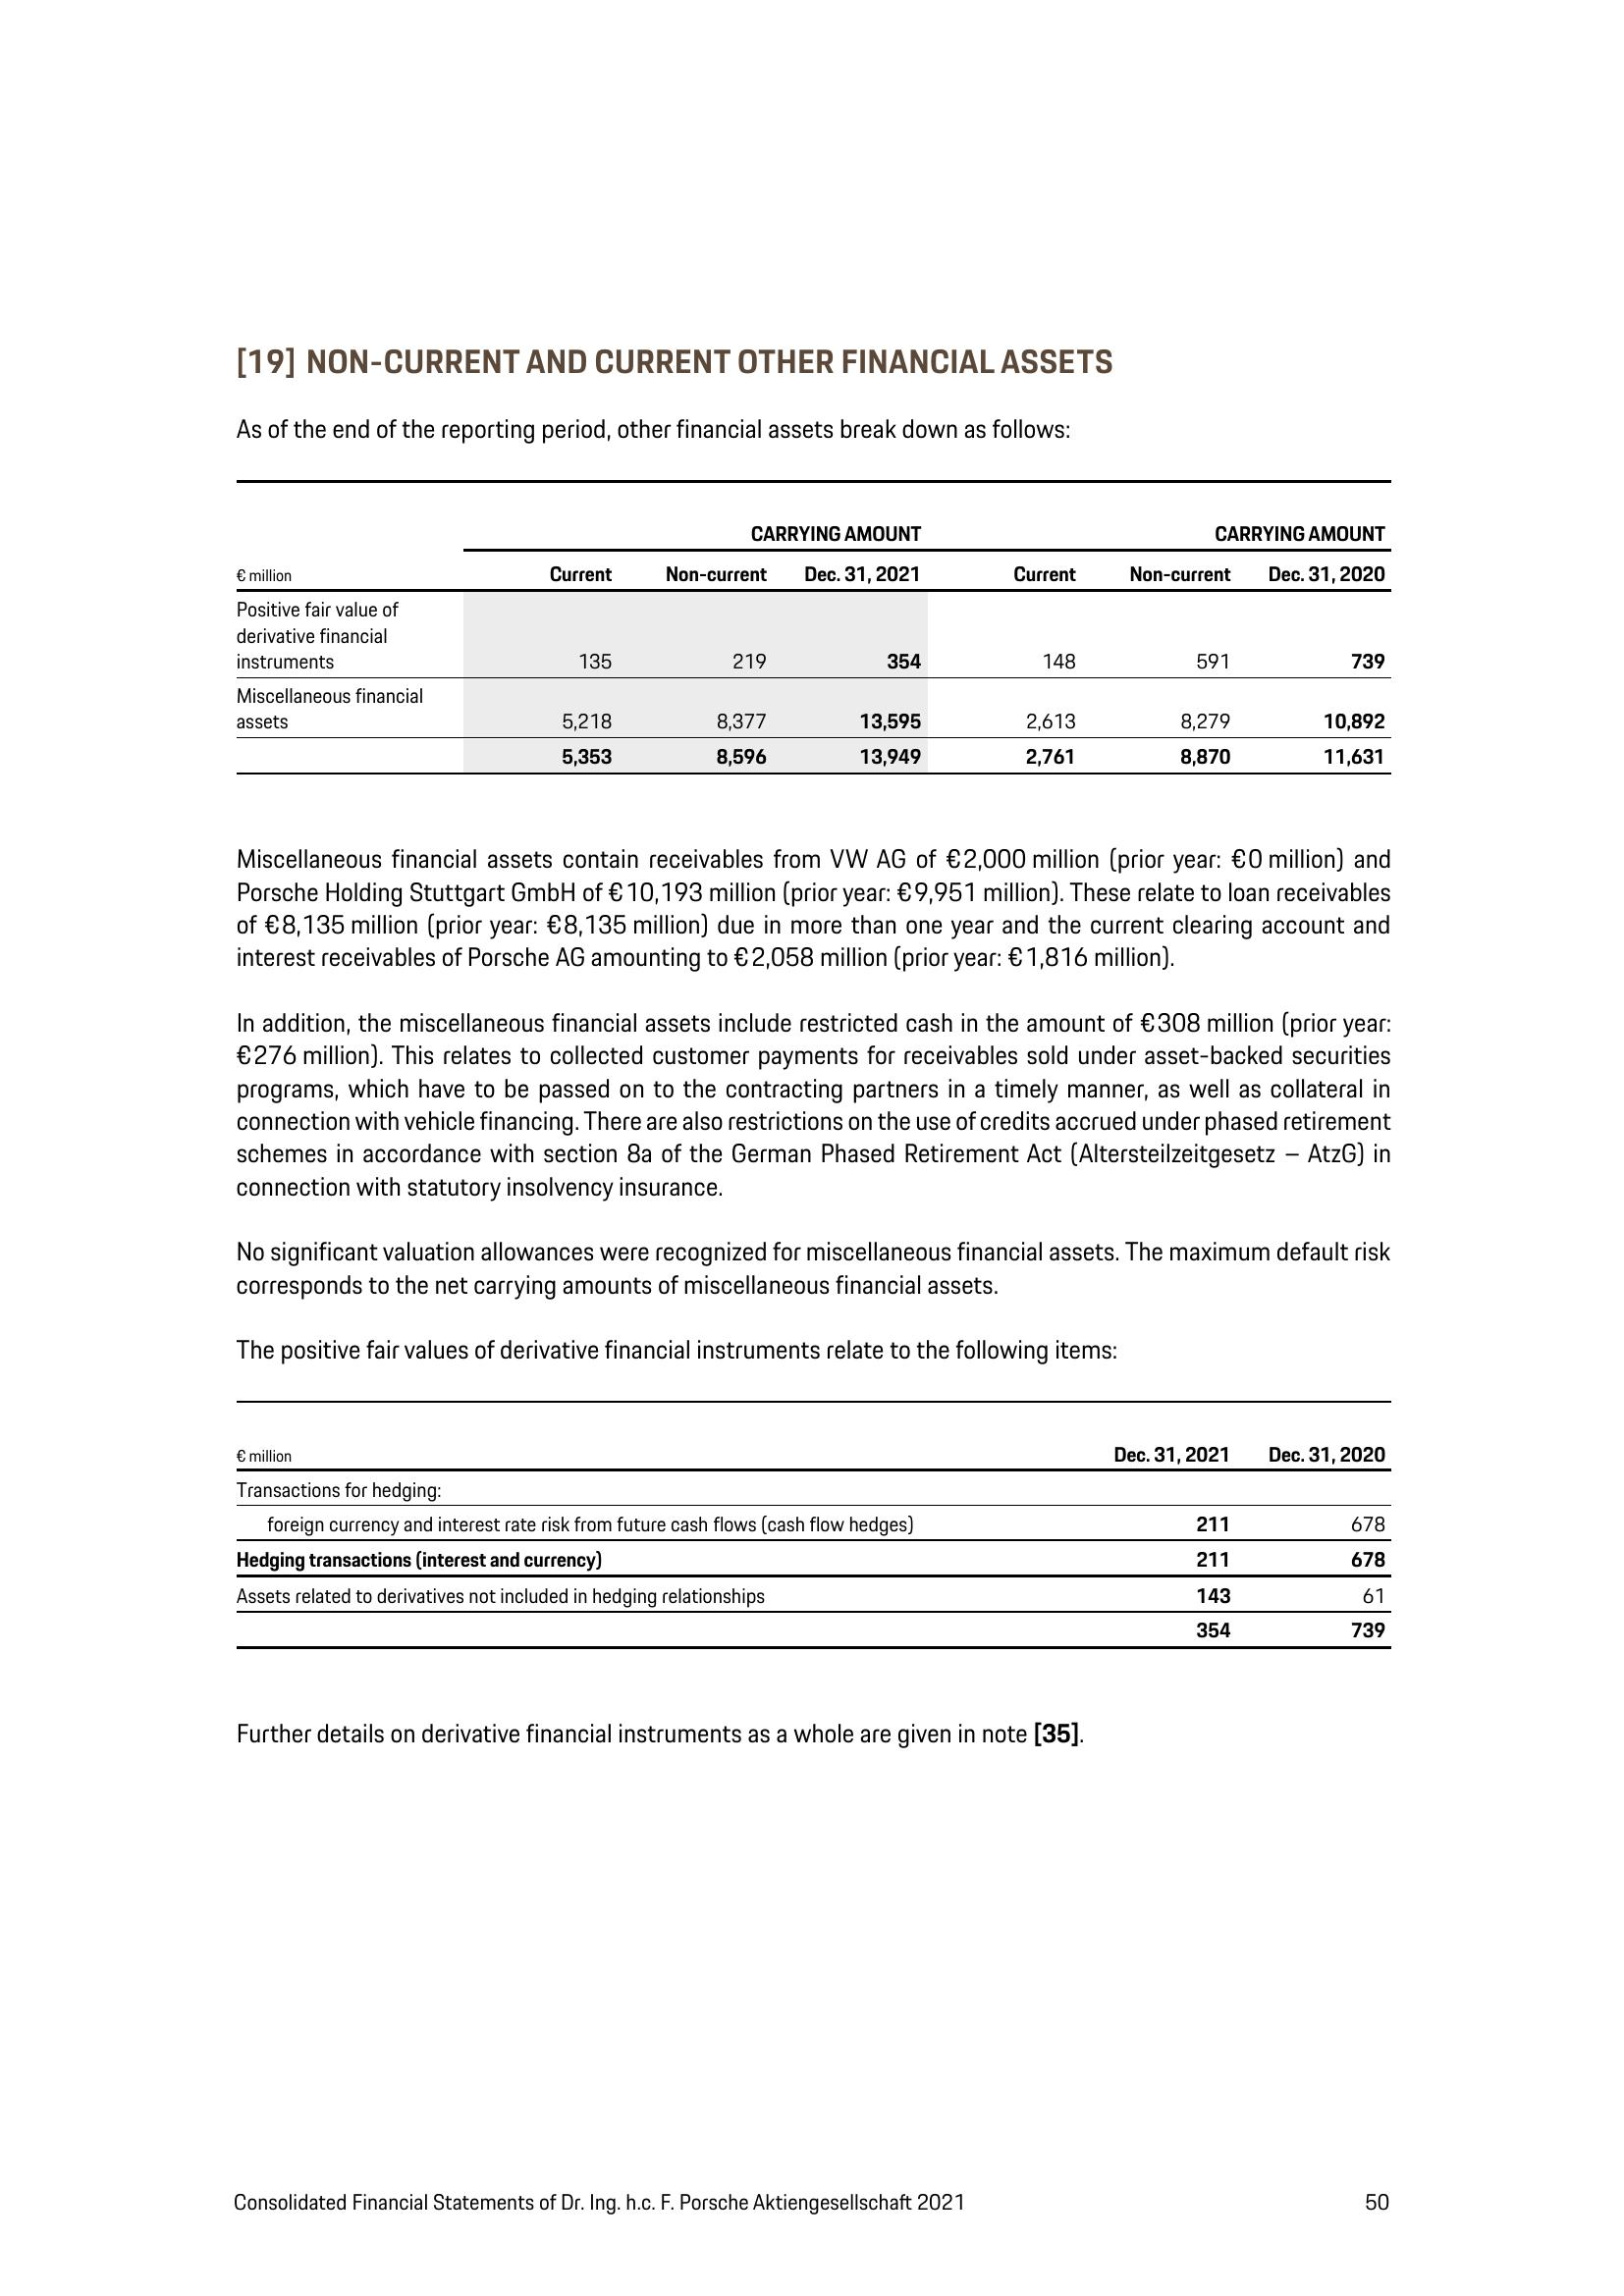Footer: (0, 2140, 1624, 2296)
Header: (0, 0, 1624, 174)
Table: (186, 474, 1425, 806), (181, 1388, 1446, 1648)
